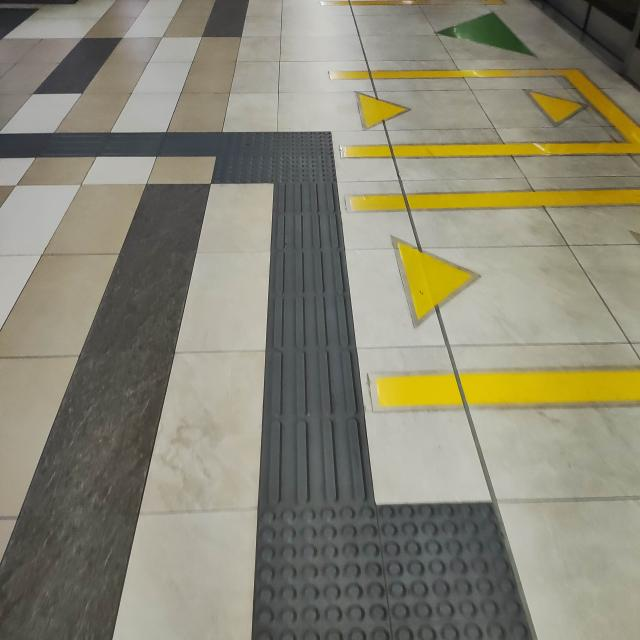kiri: (132, 109, 384, 217)
